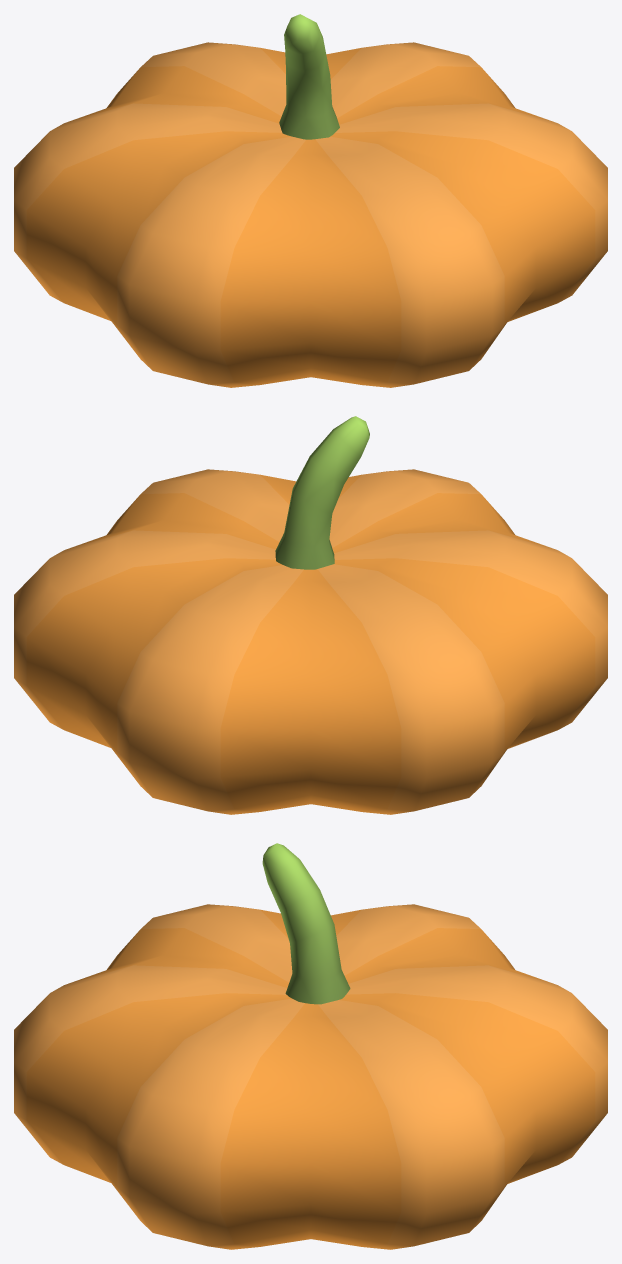
The model's file is pumpkin_2.fbx.
The picture shows the model from 3 angles, top to bottom: view 1: azimuth 30°, elevation 25°; view 2: azimuth 150°, elevation 25°; view 3: azimuth 270°, elevation 25°; orthographic projection.
Parts seen in each view (by area): view 1: pumpkin_2; view 2: pumpkin_2; view 3: pumpkin_2.
Boxes of the visible parts, bbox=[...] form: pumpkin_2: bbox=[14, 14, 607, 387]; pumpkin_2: bbox=[14, 416, 607, 814]; pumpkin_2: bbox=[14, 843, 607, 1249].
Size of the model in its own units: 84.03 by 55.51 by 90.34.
1 material, 1 textured.
